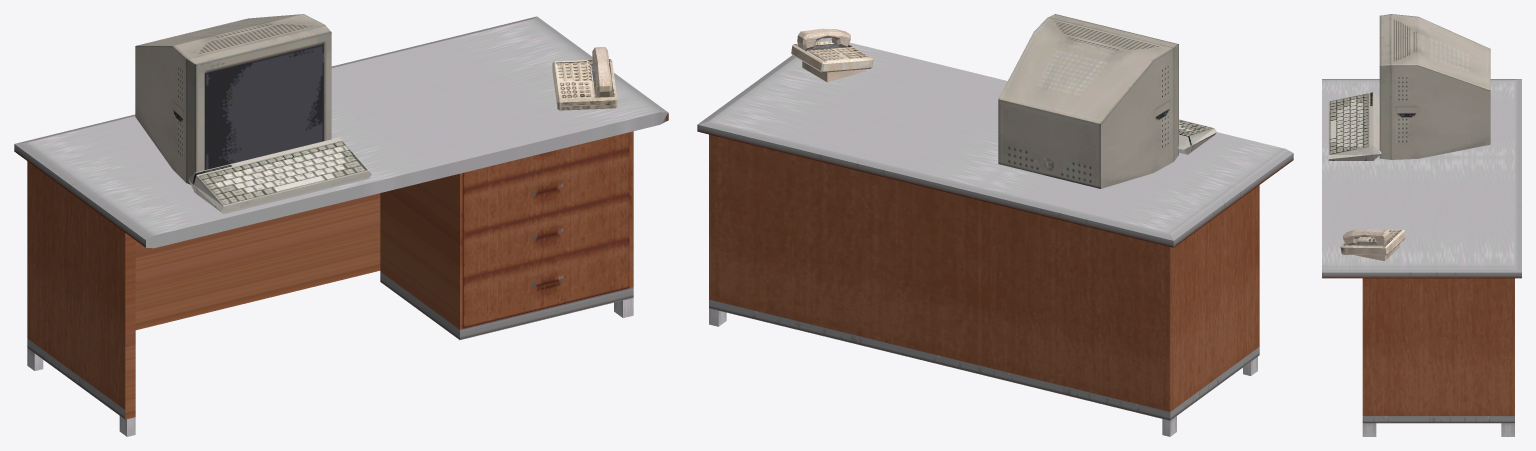
File: officedesk1.obj
3 renders of one model, left to right at view 1: azimuth 30°, elevation 25°; view 2: azimuth 150°, elevation 25°; view 3: azimuth 270°, elevation 25°, orthographic. The views are drawn at different scales.
Parts seen in each view (by area): view 1: officedesk1; view 2: officedesk1; view 3: officedesk1.
Part boxes in pixels (x1,y1,x2,y2): officedesk1: (14,14,668,436); officedesk1: (697,14,1293,436); officedesk1: (1322,14,1521,436).
Size of the model in its own units: 1.99 by 1.26 by 0.8663.
